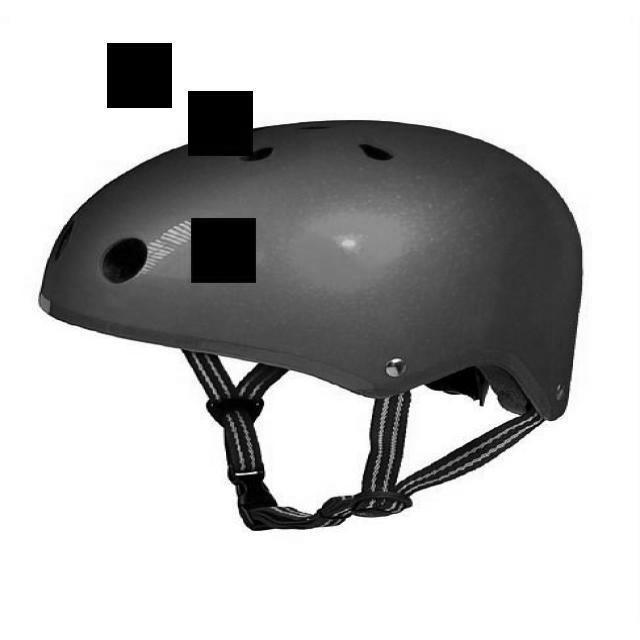helmet: (37, 106, 584, 425)
